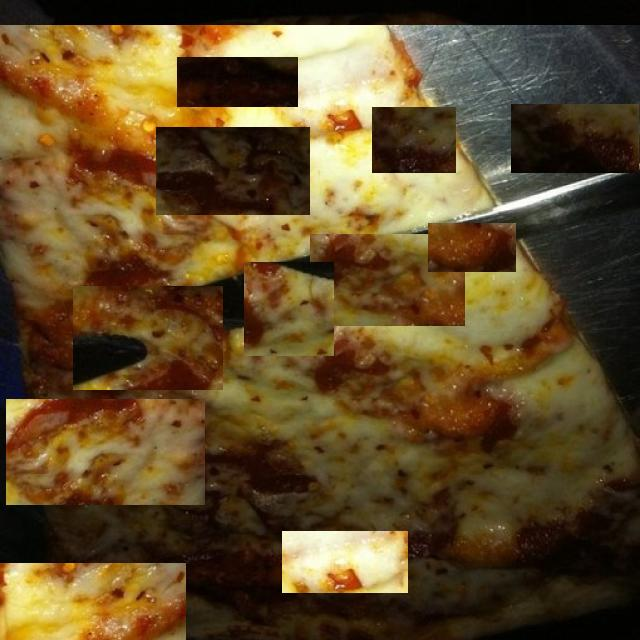pepperoni: (6, 399, 205, 505), (73, 286, 223, 390), (0, 563, 186, 640), (310, 234, 465, 326), (157, 127, 310, 215), (511, 104, 639, 173), (244, 262, 334, 356), (282, 531, 408, 593), (177, 57, 298, 107), (372, 107, 456, 173), (78, 178, 138, 266), (428, 223, 516, 272)
pizza: (0, 25, 640, 640)
